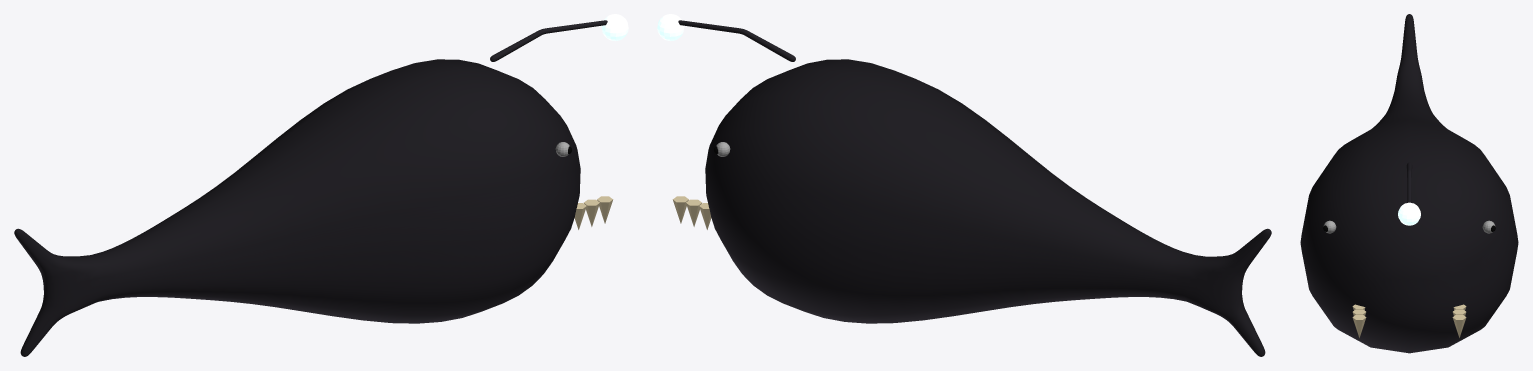
Rendered from peixe_diabo.glb.
3 renders of one model, left to right at view 1: azimuth 30°, elevation 25°; view 2: azimuth 150°, elevation 25°; view 3: azimuth 270°, elevation 25°, orthographic. The views are drawn at different scales.
Visible parts, largest first — view 1: corpo; view 2: corpo; view 3: corpo.
Boxes of the visible parts, x1,y1,x2,y2 form: corpo: (14, 14, 628, 356); corpo: (657, 14, 1271, 356); corpo: (1300, 14, 1518, 353).
Size of the model in its own units: 2.55 by 1.01 by 0.9281.
